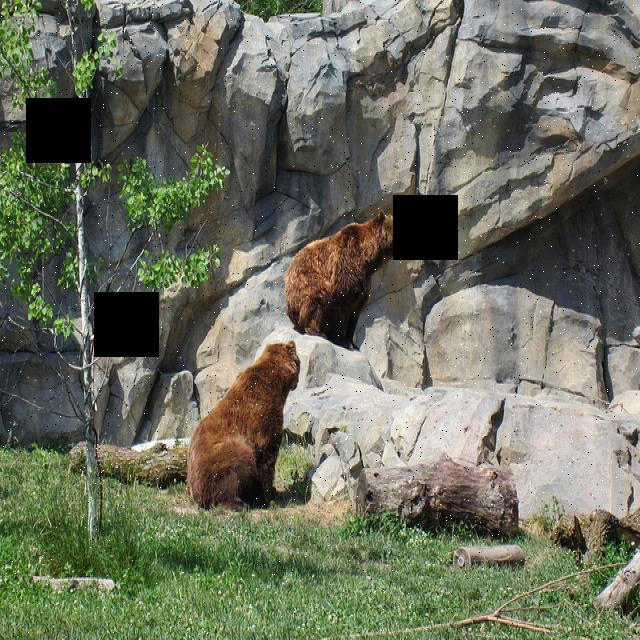Bear: (180, 332, 303, 508), (283, 201, 415, 346)
